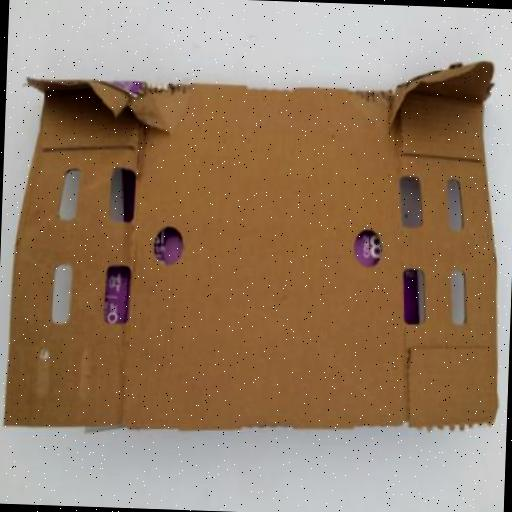cardboard: (4, 42, 512, 443)
